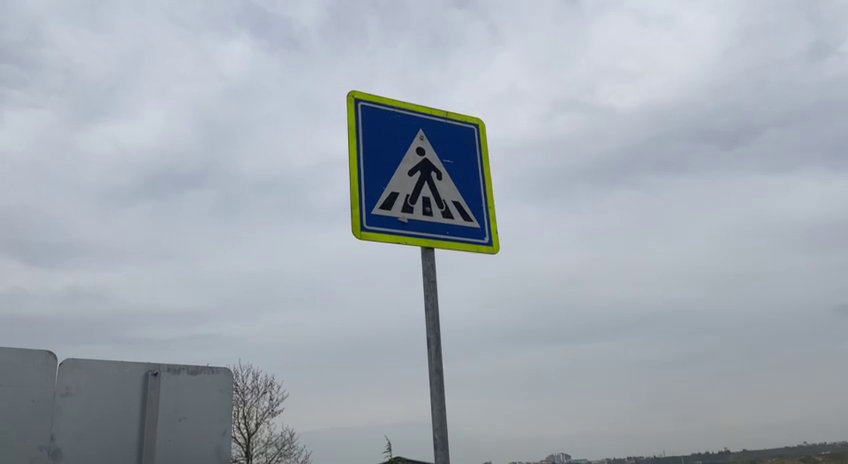pedestrianCrossing: (343, 87, 503, 258)
